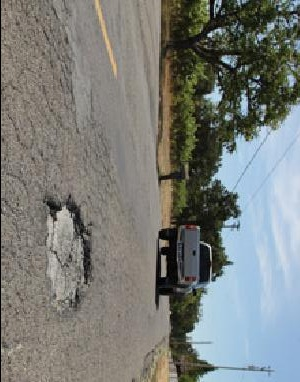pothole: (41, 194, 95, 315)
